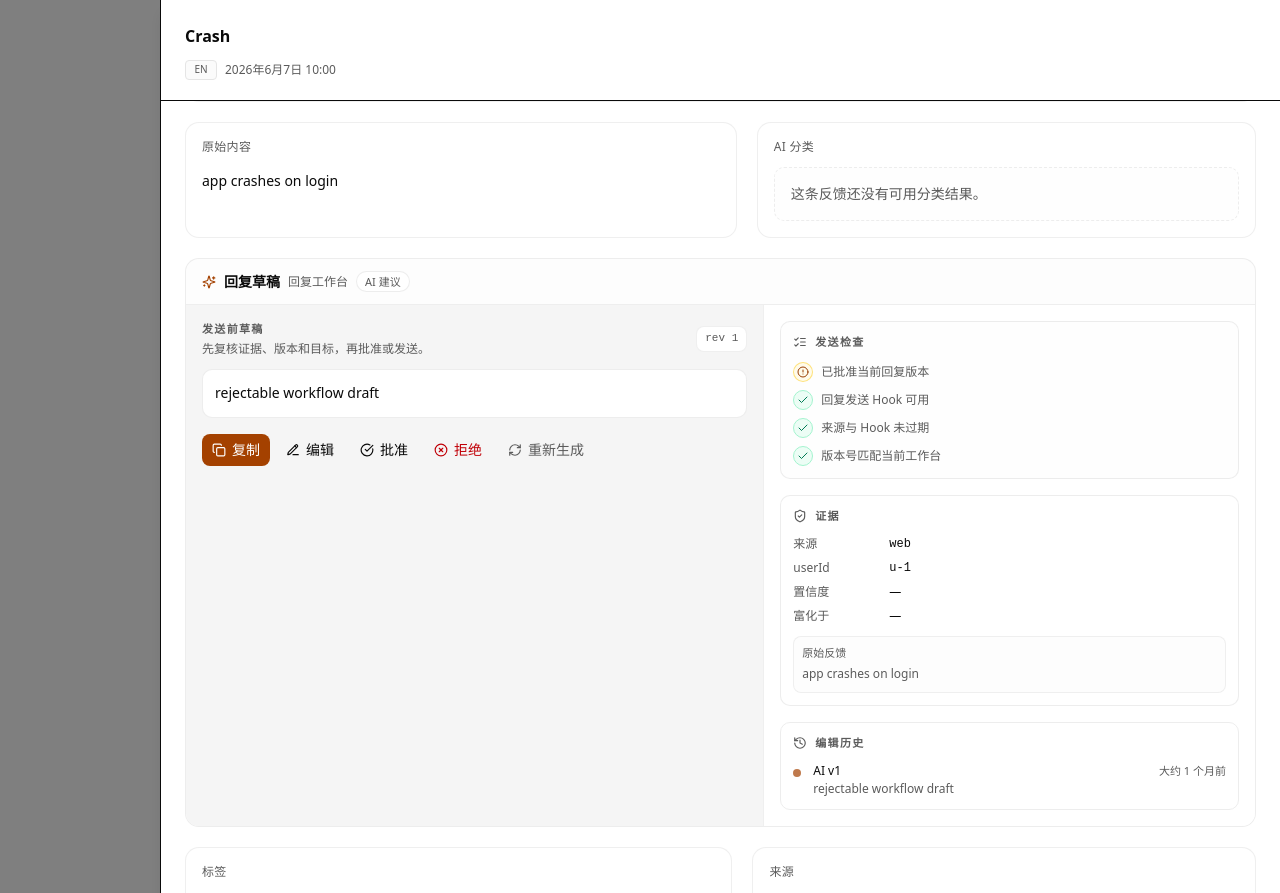
Test: FeedbackDetailSheet › uses the workflow returned by a successful reject immediately
(page scrolled)
Step 1. Click the button "拒绝" → (458, 450), box [424,434,492,466]
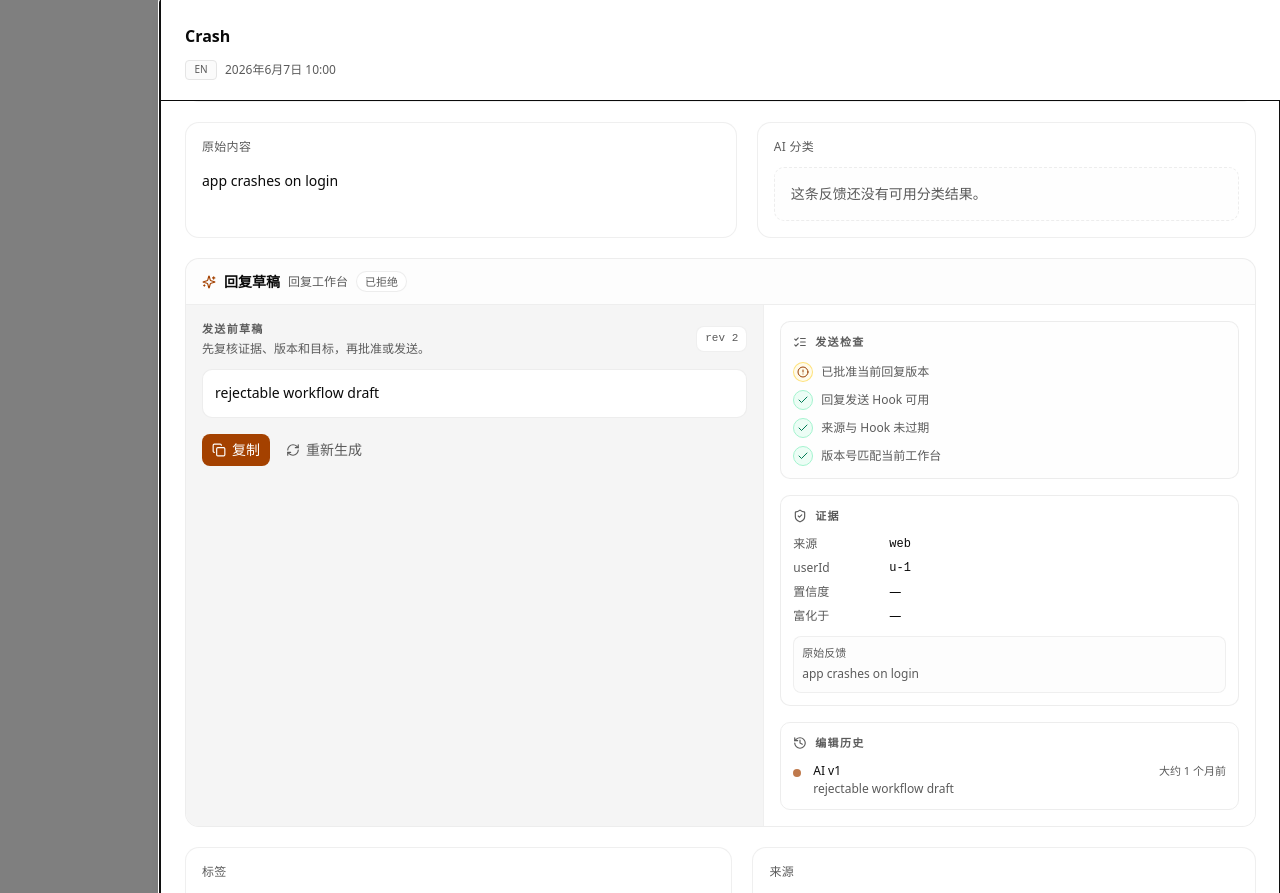
Result: the text "已拒绝" is shown at [356,271,407,292]
Result: the text "rev 2" is shown at [696,326,747,352]
